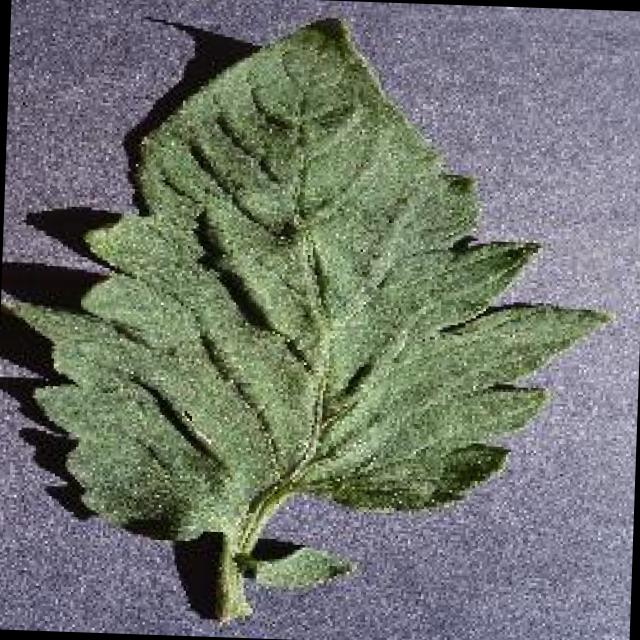Tomato_Healthy: (17, 26, 614, 539)
